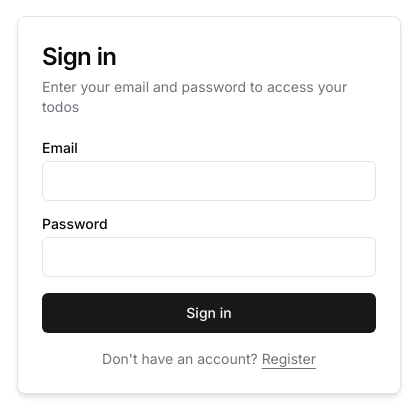
Test case: LoginPage › disables submit button while login is in progress
In the field labelled "Email": {"x": 209, "y": 181} left=42, top=161, right=376, bottom=201, type "a@b.com"
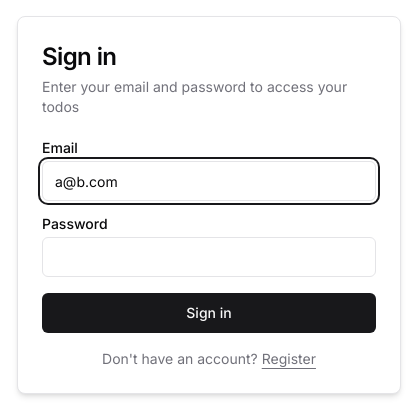
In the password field labelled "Password": {"x": 209, "y": 257} left=42, top=237, right=376, bottom=277, type "secret123"
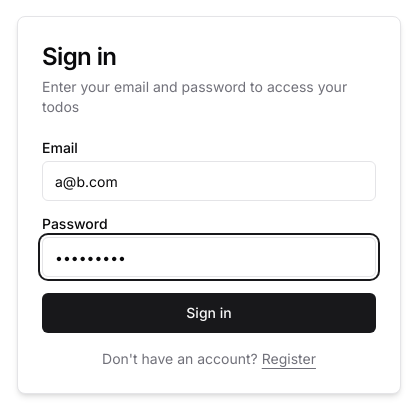
Click the button "Sign in": {"x": 209, "y": 313} left=42, top=293, right=376, bottom=333
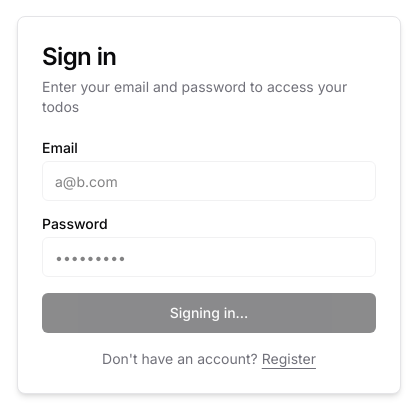
Result: the button "Signing in..." is disabled at left=42, top=293, right=376, bottom=333
